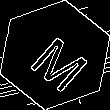M_NE: (19, 21, 91, 89)
